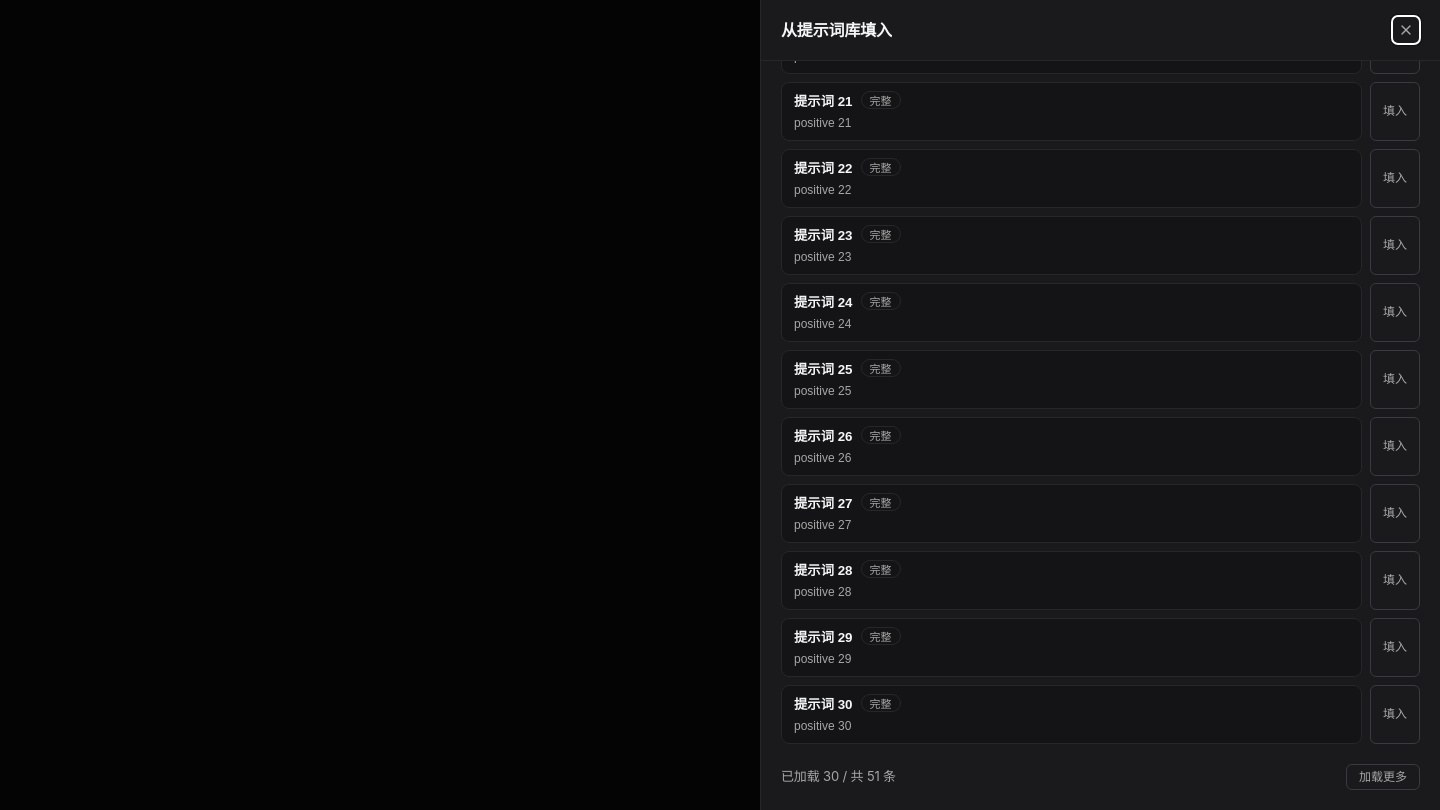
PromptLibraryDrawer 搜索与分页（v0.37 P1-C） › 51 条：第二页只补 21 条并去重
(page scrolled)
Check: the text "已加载 30 / 共 51 条" is shown, box x1=781 y1=767 x2=896 y2=786
Click the button "加载更多": (1383, 776) x1=1346 y1=764 x2=1420 y2=790
(page scrolled)
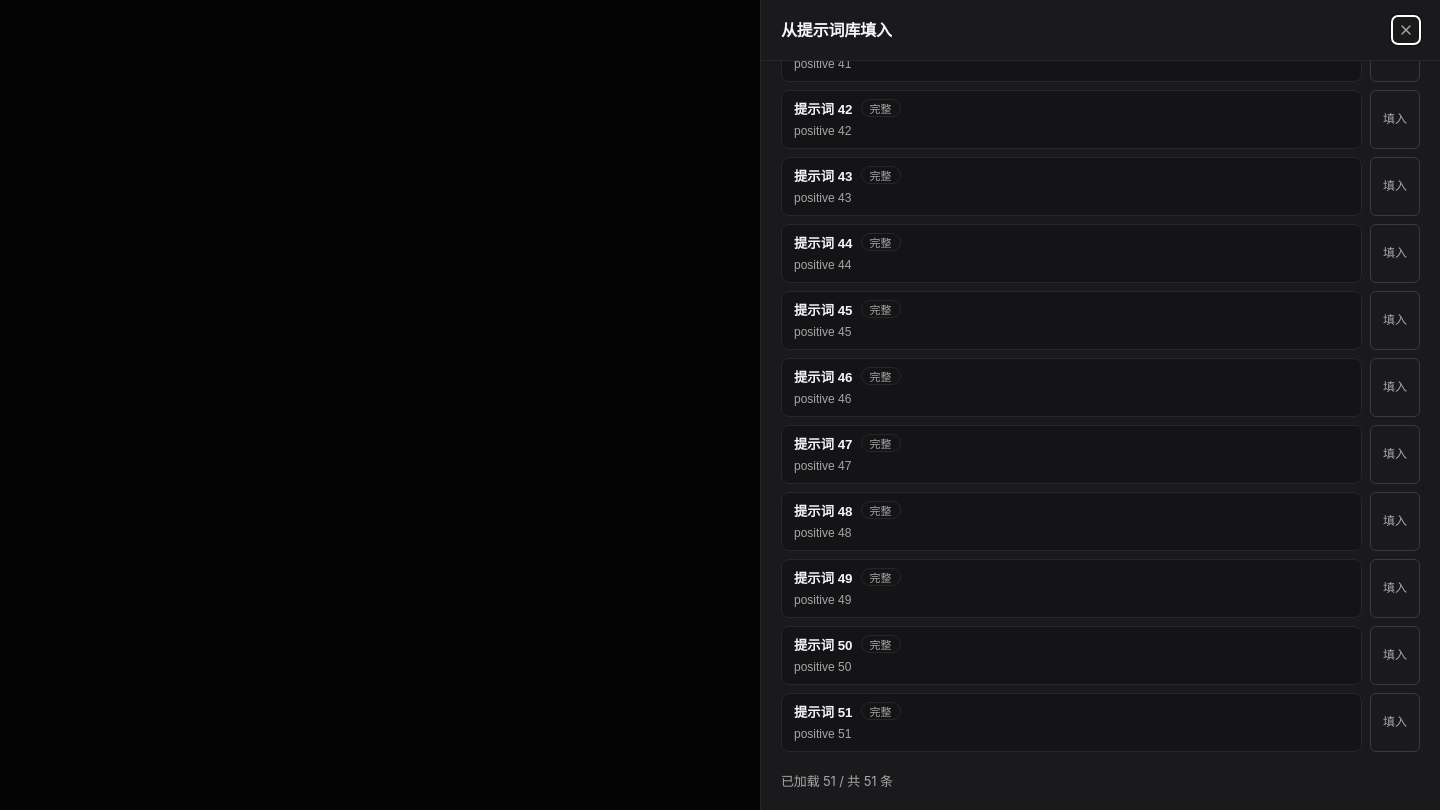
Check: the text "已加载 51 / 共 51 条" is shown, box x1=781 y1=772 x2=893 y2=790
